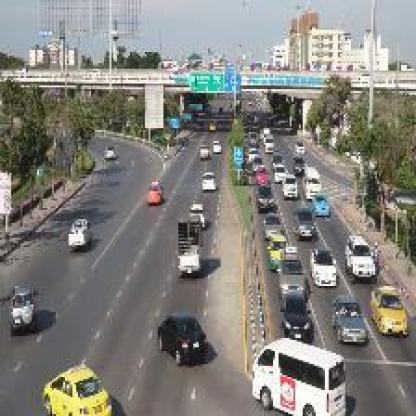other: (38, 363, 116, 411), (368, 287, 412, 343)
